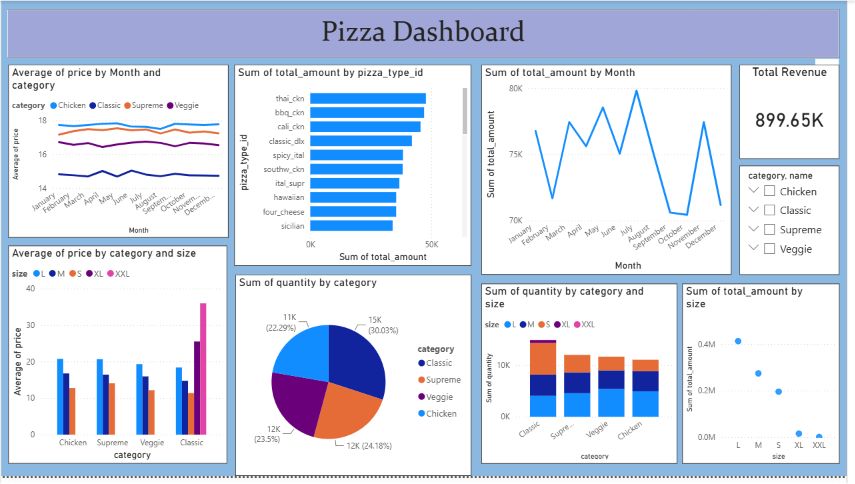

What the dashboard file says about the page in this screenshot:
{"tool":"powerbi","page":{"name":"Page 1","canvas":[1280,720],"ordinal":0},"visuals":[{"type":"textbox","box":[9.1,13.6,1259.8,72.7],"z":0},{"type":"pieChart","fields":{"Category":["Order_Details.category"],"Y":["Sum(Order_Details.quantity)"]},"box":[354.3,414.9,357.4,304.4],"z":1000},{"type":"columnChart","fields":{"Y":["Sum(Order_Details.quantity)"],"Category":["Order_Details.category"],"Series":["Order_Details.size"]},"box":[726.8,428.5,296.8,272.6],"z":2000},{"type":"card","title":"Total Revenue","fields":{"Values":["Sum(Order_Details.total_amount)"]},"box":[1117.5,96.9,151.4,142.3],"z":3000},{"type":"clusteredColumnChart","fields":{"Category":["Order_Details.category"],"Y":["Avg(Order_Details.price)"],"Series":["Order_Details.size"]},"box":[10.6,371,331.6,330.1],"z":4000},{"type":"lineChart","fields":{"Category":["Order_Details.date.Variation.Date Hierarchy.Month"],"Y":["Sum(Order_Details.total_amount)"]},"box":[726.8,96.9,378.6,318],"z":5000},{"type":"clusteredBarChart","fields":{"Category":["Order_Details.pizza_type_id"],"Y":["Sum(Order_Details.total_amount)"]},"box":[352.8,96.9,358.9,304.4],"z":6000},{"type":"scatterChart","fields":{"X":["Order_Details.size"],"Y":["Sum(Order_Details.total_amount)"]},"box":[1031.2,428.5,237.7,272.6],"z":7000},{"type":"lineChart","fields":{"Series":["Order_Details.category"],"Y":["Avg(Order_Details.price)"],"Category":["Order_Details.date.Variation.Date Hierarchy.Month"]},"box":[10.6,96.9,333.1,262],"z":8000},{"type":"slicer","fields":{"Values":["Order_Details.category","Order_Details.name"]},"box":[1117.5,249.8,151.4,165],"z":9000}]}

Visuals, with their boxes in screenshot pixels (x1, y1, x2, y2), scaled from the page's 1280x720 canvas onto the 855x484 screenshot:
textbox: box=[6, 9, 848, 58]
pieChart - Order_Details.category x Sum(Order_Details.quantity): box=[237, 279, 475, 483]
columnChart - Sum(Order_Details.quantity) x Order_Details.category: box=[485, 288, 684, 471]
"Total Revenue" card: box=[746, 65, 848, 161]
clusteredColumnChart - Order_Details.category x Avg(Order_Details.price): box=[7, 249, 229, 471]
lineChart - Order_Details.date.Variation.Date Hierarchy.Month x Sum(Order_Details.total_amount): box=[485, 65, 738, 279]
clusteredBarChart - Order_Details.pizza_type_id x Sum(Order_Details.total_amount): box=[236, 65, 475, 270]
scatterChart - Order_Details.size x Sum(Order_Details.total_amount): box=[689, 288, 848, 471]
lineChart - Order_Details.category x Avg(Order_Details.price): box=[7, 65, 230, 241]
slicer - Order_Details.category x Order_Details.name: box=[746, 168, 848, 279]
